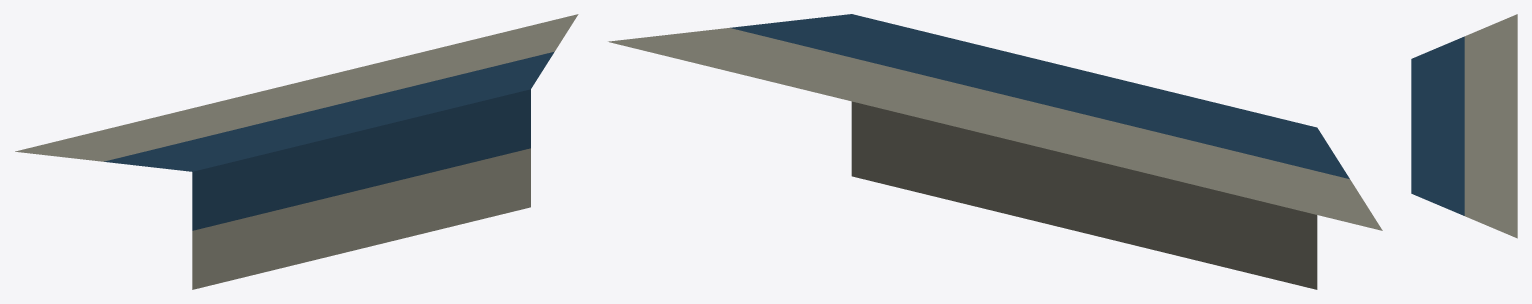
Rendered from swimming pool edge1.FBX.
3 renders of one model, left to right at view 1: azimuth 30°, elevation 25°; view 2: azimuth 150°, elevation 25°; view 3: azimuth 270°, elevation 25°, orthographic. The views are drawn at different scales.
Parts seen in each view (by area): view 1: swimming pool edge1; view 2: swimming pool edge1; view 3: swimming pool edge1.
Part boxes in pixels (x1,y1,x2,y2): swimming pool edge1: [15, 14, 578, 289]; swimming pool edge1: [608, 14, 1382, 289]; swimming pool edge1: [1411, 14, 1517, 238].
Bounding box in the file's own units: 20 × 4 × 4.
